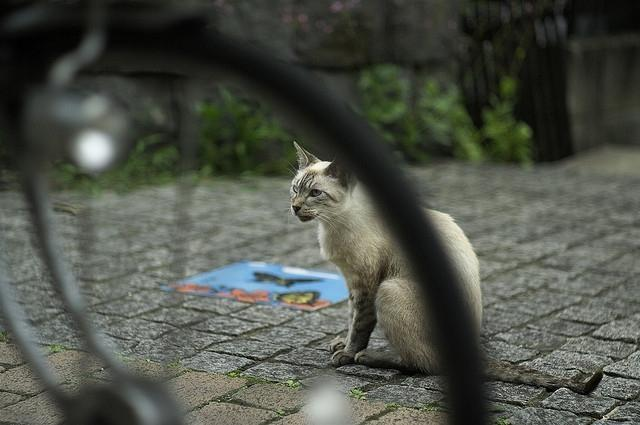bicycle: (4, 1, 495, 424)
